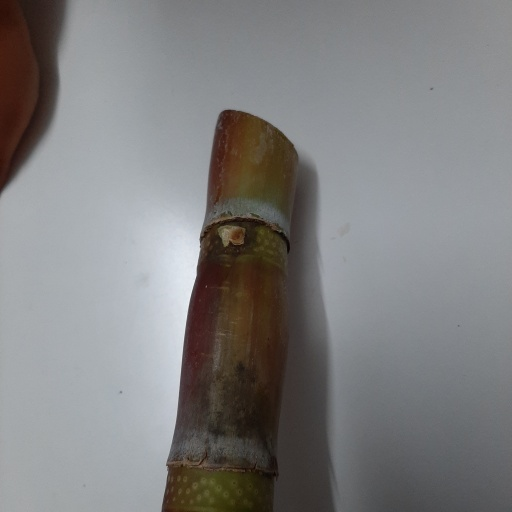Damage_Bud: (226, 225, 249, 246)
